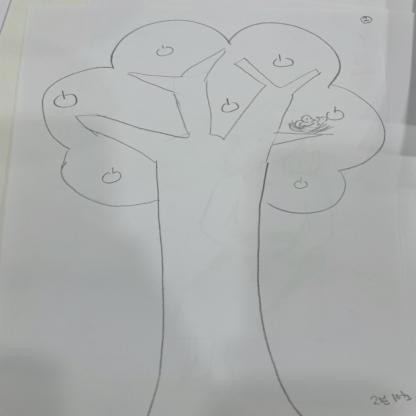apple: (52, 90, 78, 108), (101, 168, 122, 184), (324, 106, 347, 120), (219, 98, 240, 113), (273, 55, 295, 67), (156, 45, 173, 57), (293, 178, 307, 190)
bird: (287, 114, 333, 135)
branch_cut: (75, 48, 320, 175)
crown_cloud: (41, 21, 386, 214)
trunk_straight: (157, 208, 275, 364)
